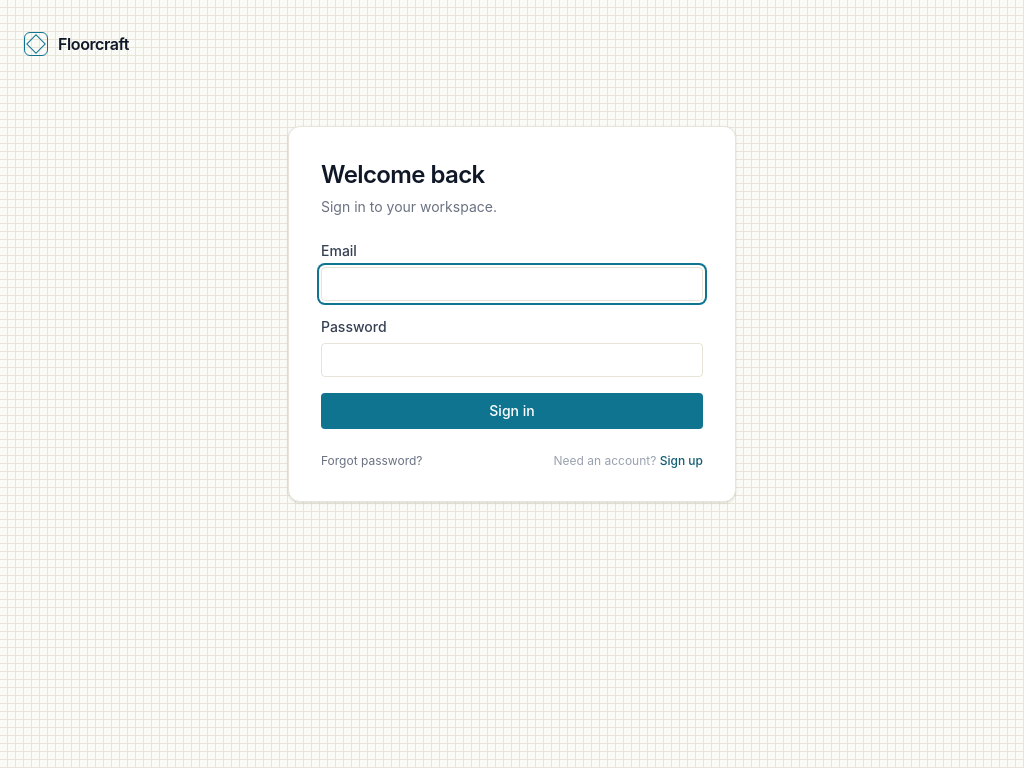
it: LoginPage › shows an error when sign-in fails
In the field labelled "Email": (512, 284) [321,267,703,301], type "a@b.c"
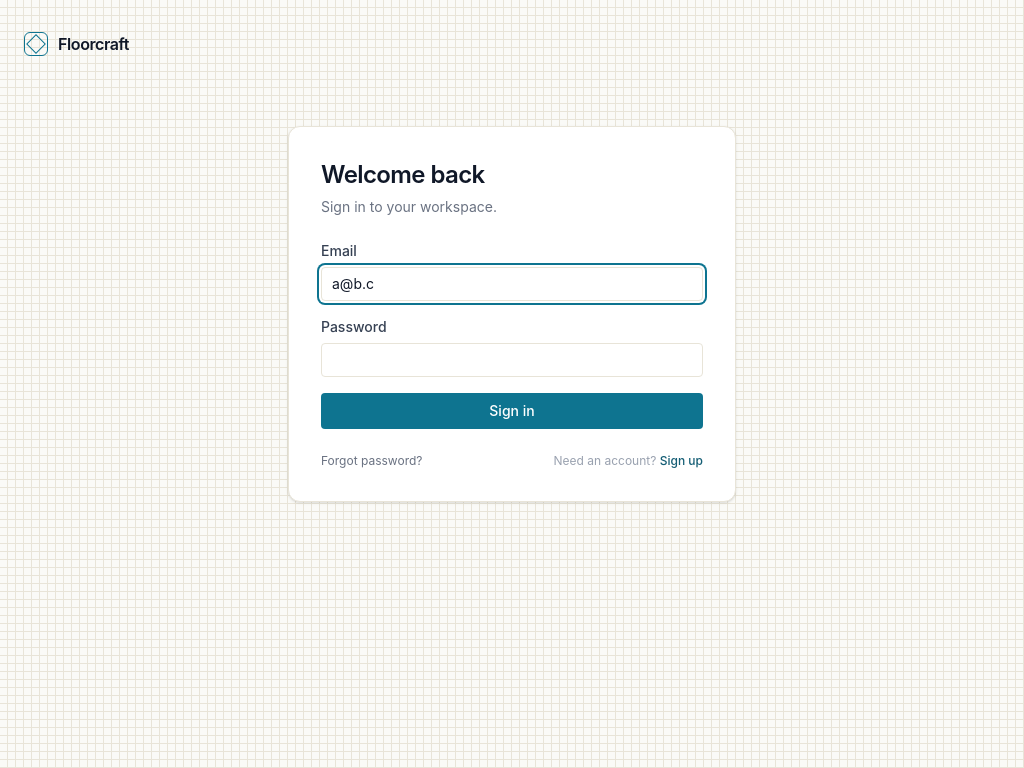
In the password field labelled "Password": (512, 360) [321,343,703,377], type "bad"
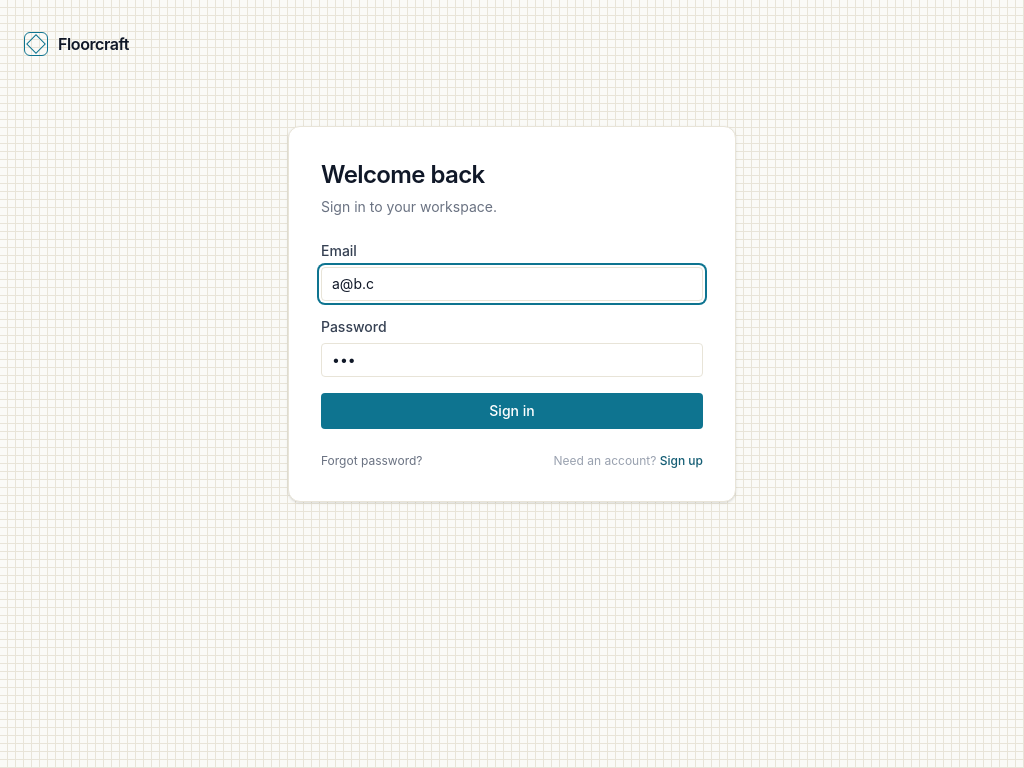
Click the button "Sign in": (512, 411) [321,393,703,429]
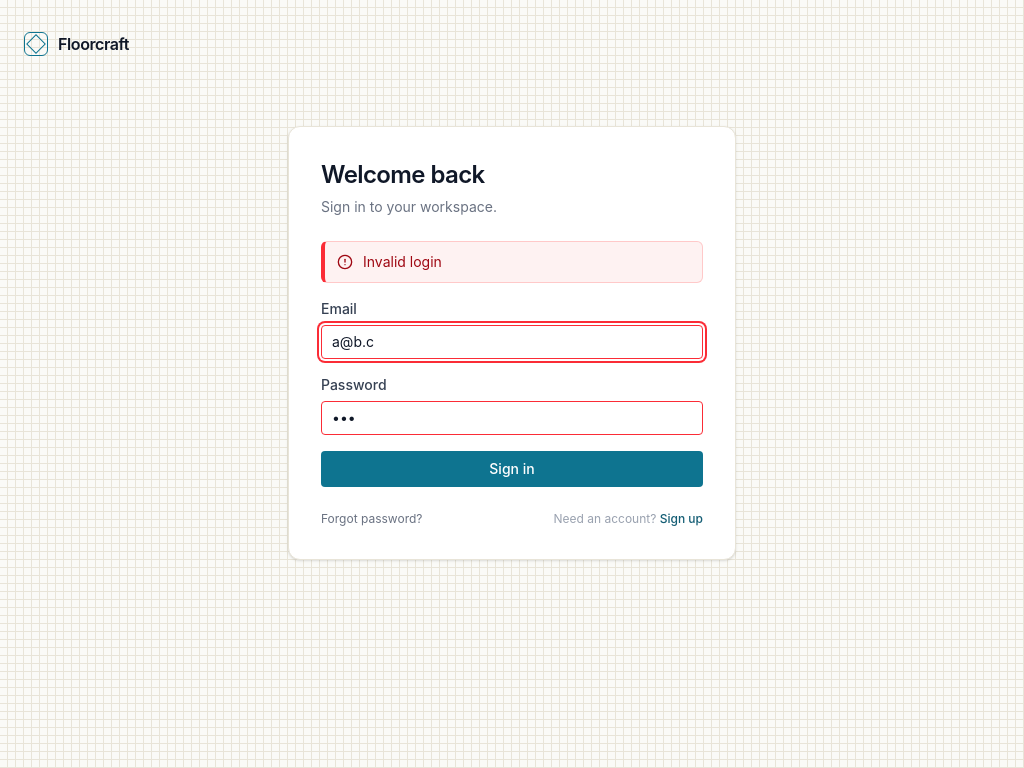
Now the text "Invalid login" is shown, box [363,252,442,272]
